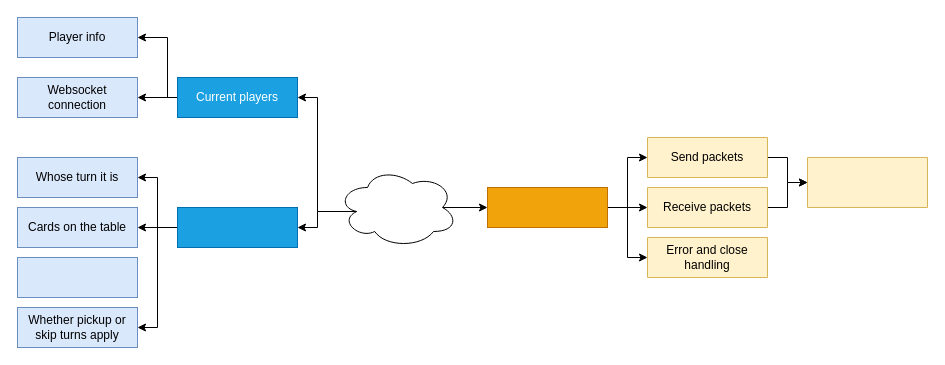
Some shapes in this 945 by 365 pixel diagram are drawn without their labels. The shapes that lost their labels are listed below. From the top down, each one's centre as x and y in pixels, then its label:
At (867,182): "Parse between JSON strings and packet objects".
At (237,227): "Current game state".
At (397,207): "Server".
At (547,207): "WebSockets".
At (77,277): "Cards in the deck".
